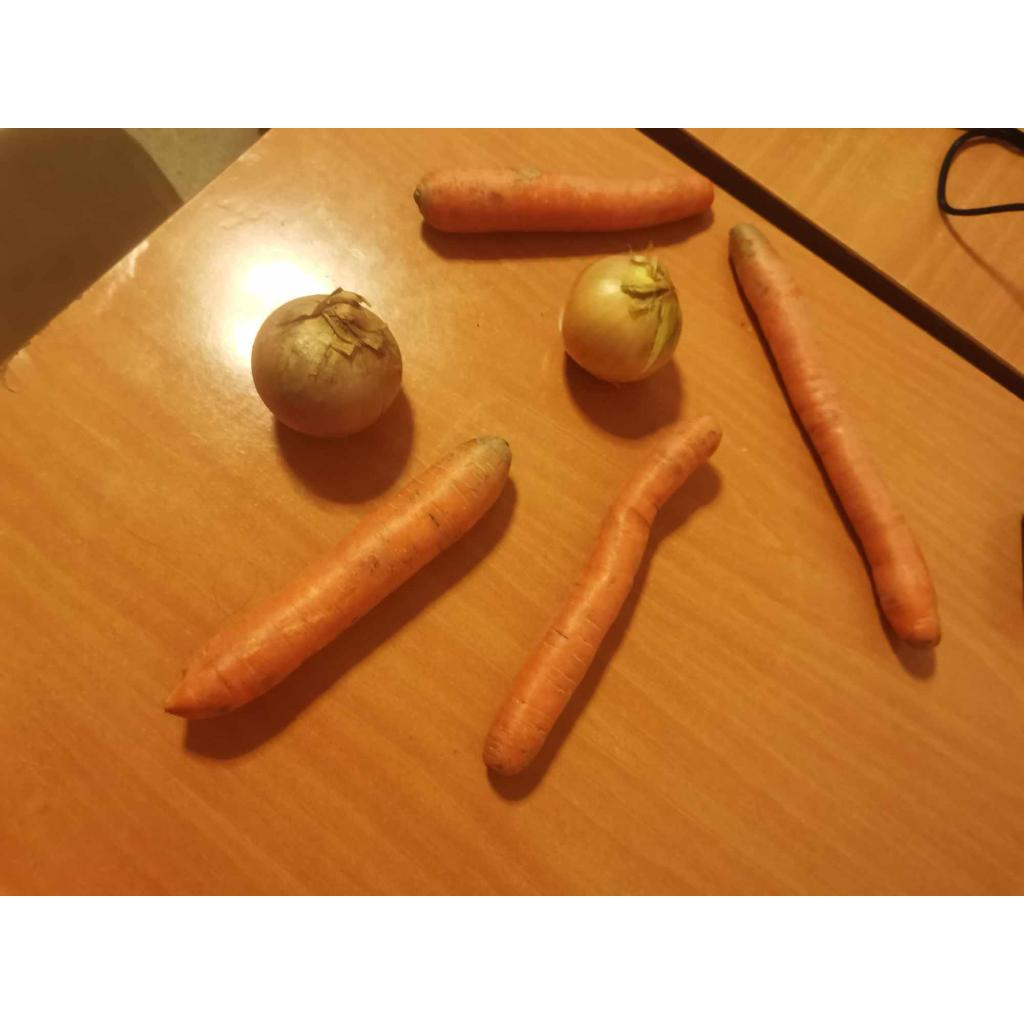carrot: (164, 435, 513, 728), (482, 417, 722, 806), (730, 225, 937, 661), (412, 167, 716, 239)
